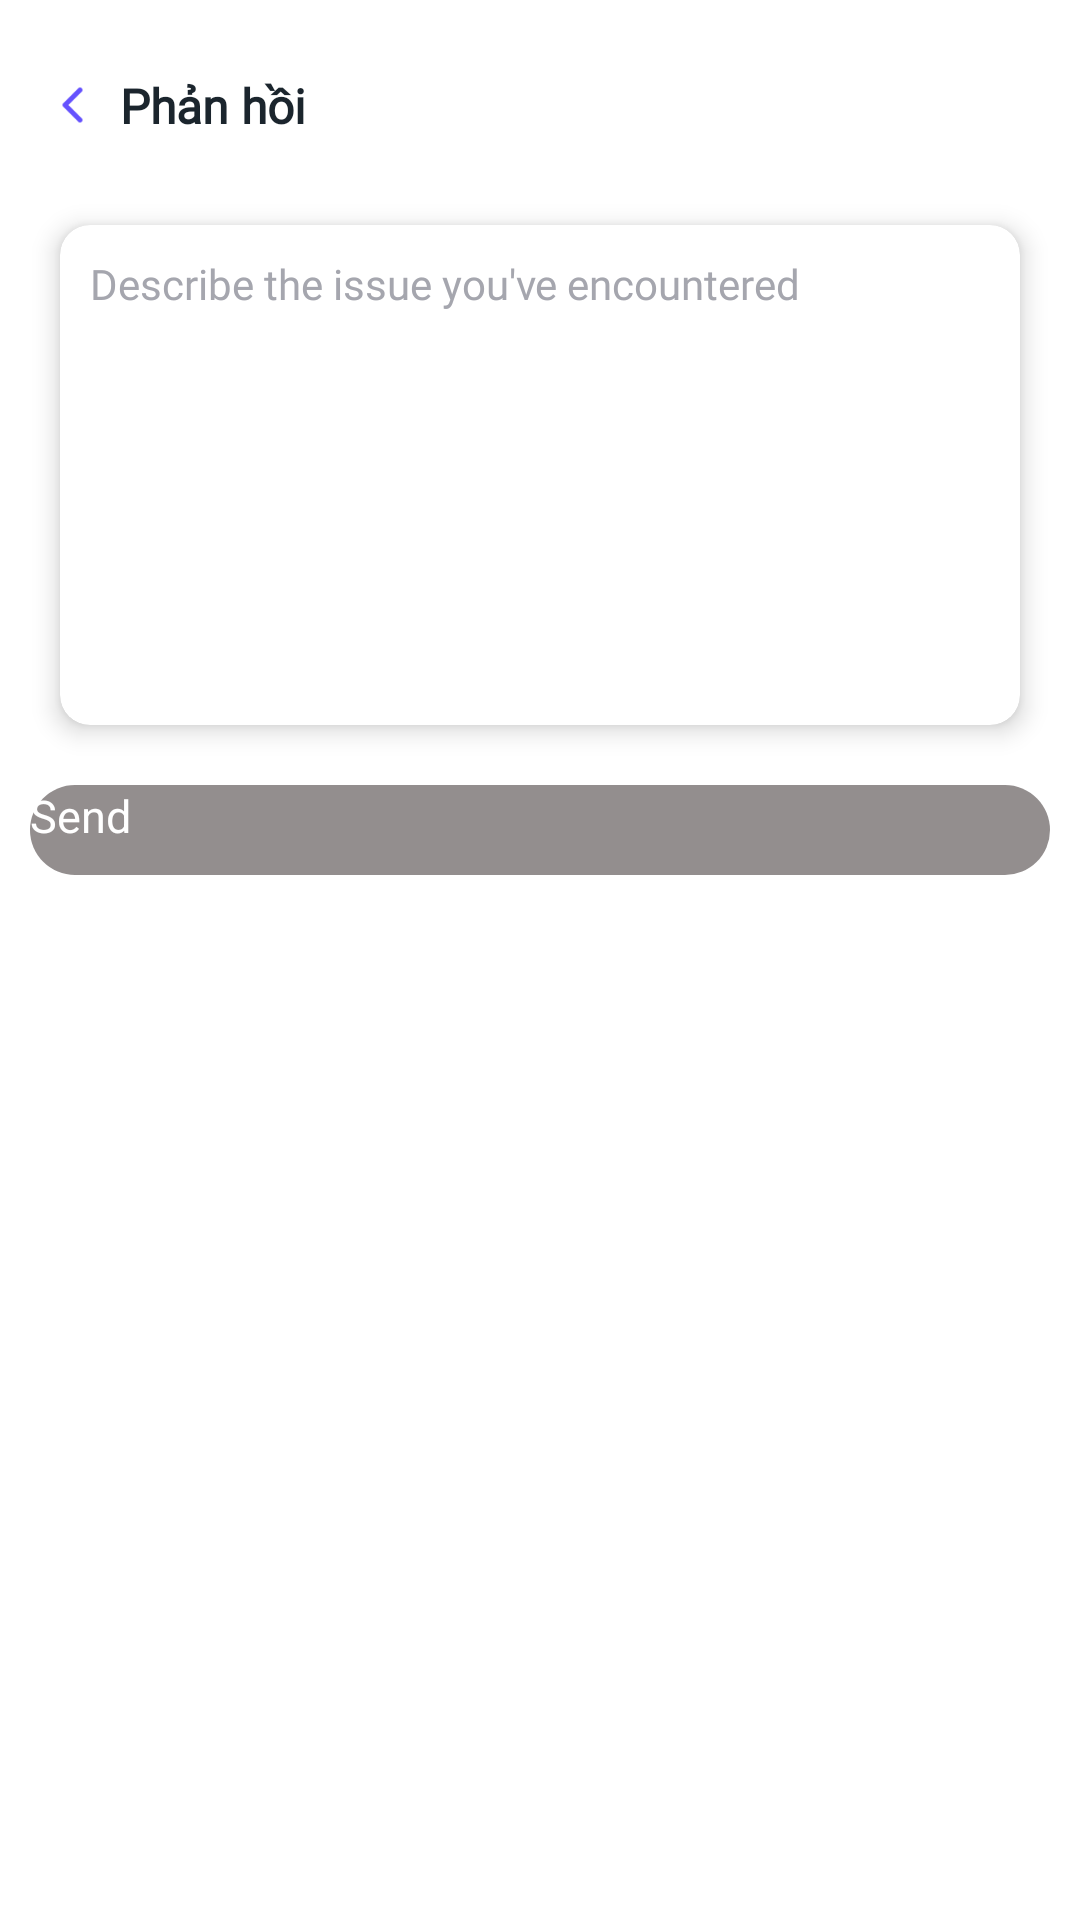

Locate icon controls on the screen. Image size 1080×1920, boxes as [x1, y1, x2, y2].
back: [62, 87, 83, 123]
